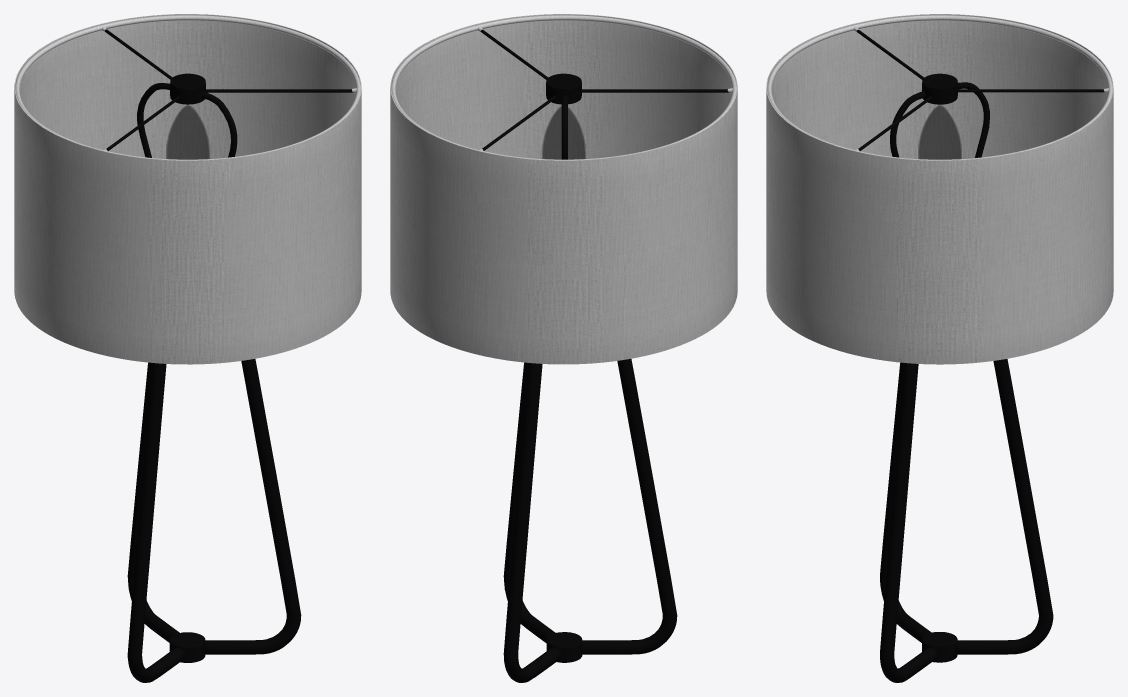
File: ORNL2695_v6_LOD2.obj
The picture shows the model from 3 angles, left to right: view 1: azimuth 30°, elevation 25°; view 2: azimuth 150°, elevation 25°; view 3: azimuth 270°, elevation 25°; orthographic projection.
Parts seen in each view (by area): view 1: not_clear_obj_2_v6, not_clear_obj_3_v6, not_clear_obj_0_v6, clear_obj_0_82_353_v6, not_clear_obj_4_v6, not_clear_obj_5_v6; view 2: not_clear_obj_2_v6, not_clear_obj_3_v6, not_clear_obj_0_v6, clear_obj_0_82_353_v6, not_clear_obj_4_v6, not_clear_obj_5_v6; view 3: not_clear_obj_2_v6, not_clear_obj_3_v6, not_clear_obj_0_v6, clear_obj_0_82_353_v6, not_clear_obj_4_v6, not_clear_obj_5_v6.
Boxes of the visible parts, bbox=[...] form: not_clear_obj_2_v6: bbox=[14, 14, 361, 364]; not_clear_obj_3_v6: bbox=[127, 359, 301, 682]; not_clear_obj_0_v6: bbox=[105, 29, 352, 157]; clear_obj_0_82_353_v6: bbox=[166, 105, 209, 159]; not_clear_obj_4_v6: bbox=[169, 82, 205, 662]; not_clear_obj_5_v6: bbox=[170, 73, 205, 647]; not_clear_obj_2_v6: bbox=[390, 14, 737, 364]; not_clear_obj_3_v6: bbox=[503, 359, 677, 682]; not_clear_obj_0_v6: bbox=[480, 29, 728, 159]; clear_obj_0_82_353_v6: bbox=[542, 106, 585, 159]; not_clear_obj_4_v6: bbox=[546, 82, 582, 662]; not_clear_obj_5_v6: bbox=[546, 73, 581, 646]; not_clear_obj_2_v6: bbox=[766, 14, 1113, 364]; not_clear_obj_3_v6: bbox=[880, 359, 1053, 682]; not_clear_obj_0_v6: bbox=[856, 29, 1104, 157]; clear_obj_0_82_353_v6: bbox=[918, 105, 961, 159]; not_clear_obj_4_v6: bbox=[922, 82, 957, 662]; not_clear_obj_5_v6: bbox=[922, 73, 957, 646].
Size of what is drawn, in the model's own units: 35.49 by 64.76 by 35.49.
Materials: 7 (1 with a texture image).
